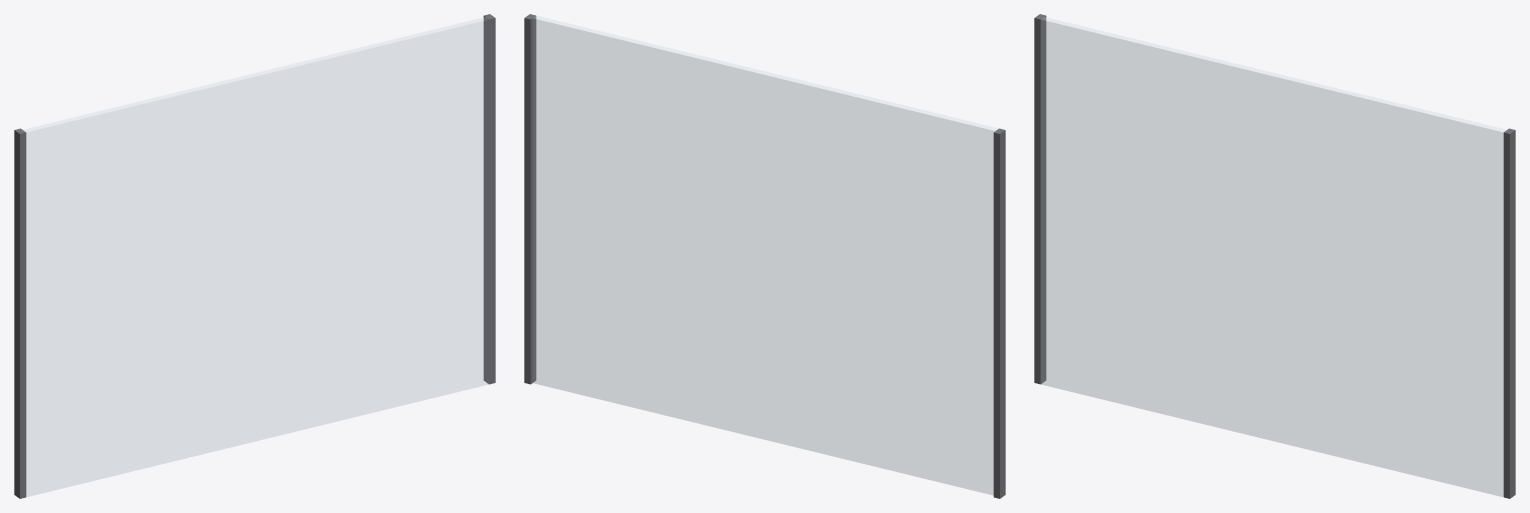
Rendered from balustrade_glass_150.glb.
3 views of the same model, side by side, from view 1: azimuth 30°, elevation 25°; view 2: azimuth 150°, elevation 25°; view 3: azimuth 330°, elevation 25° (orthographic).
Parts seen in each view (by area): view 1: balustrade_glass_150; view 2: balustrade_glass_150; view 3: balustrade_glass_150.
Boxes of the visible parts, left/top/right/bottom form: balustrade_glass_150: left=14, top=14, right=495, bottom=498; balustrade_glass_150: left=524, top=14, right=1005, bottom=498; balustrade_glass_150: left=1034, top=14, right=1515, bottom=498.
Size of what is drawn, in the model's own units: 1.5 by 1.1 by 0.03.
